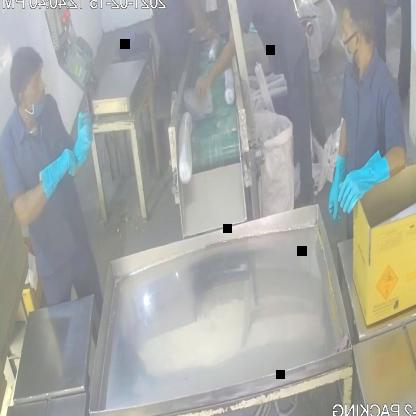glove: (338, 150, 389, 224), (36, 135, 82, 213), (322, 147, 350, 229), (69, 108, 92, 183)
no_glove: (188, 18, 248, 110)
